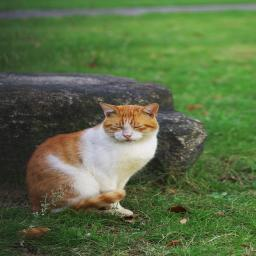catnose: (122, 132, 134, 140)
